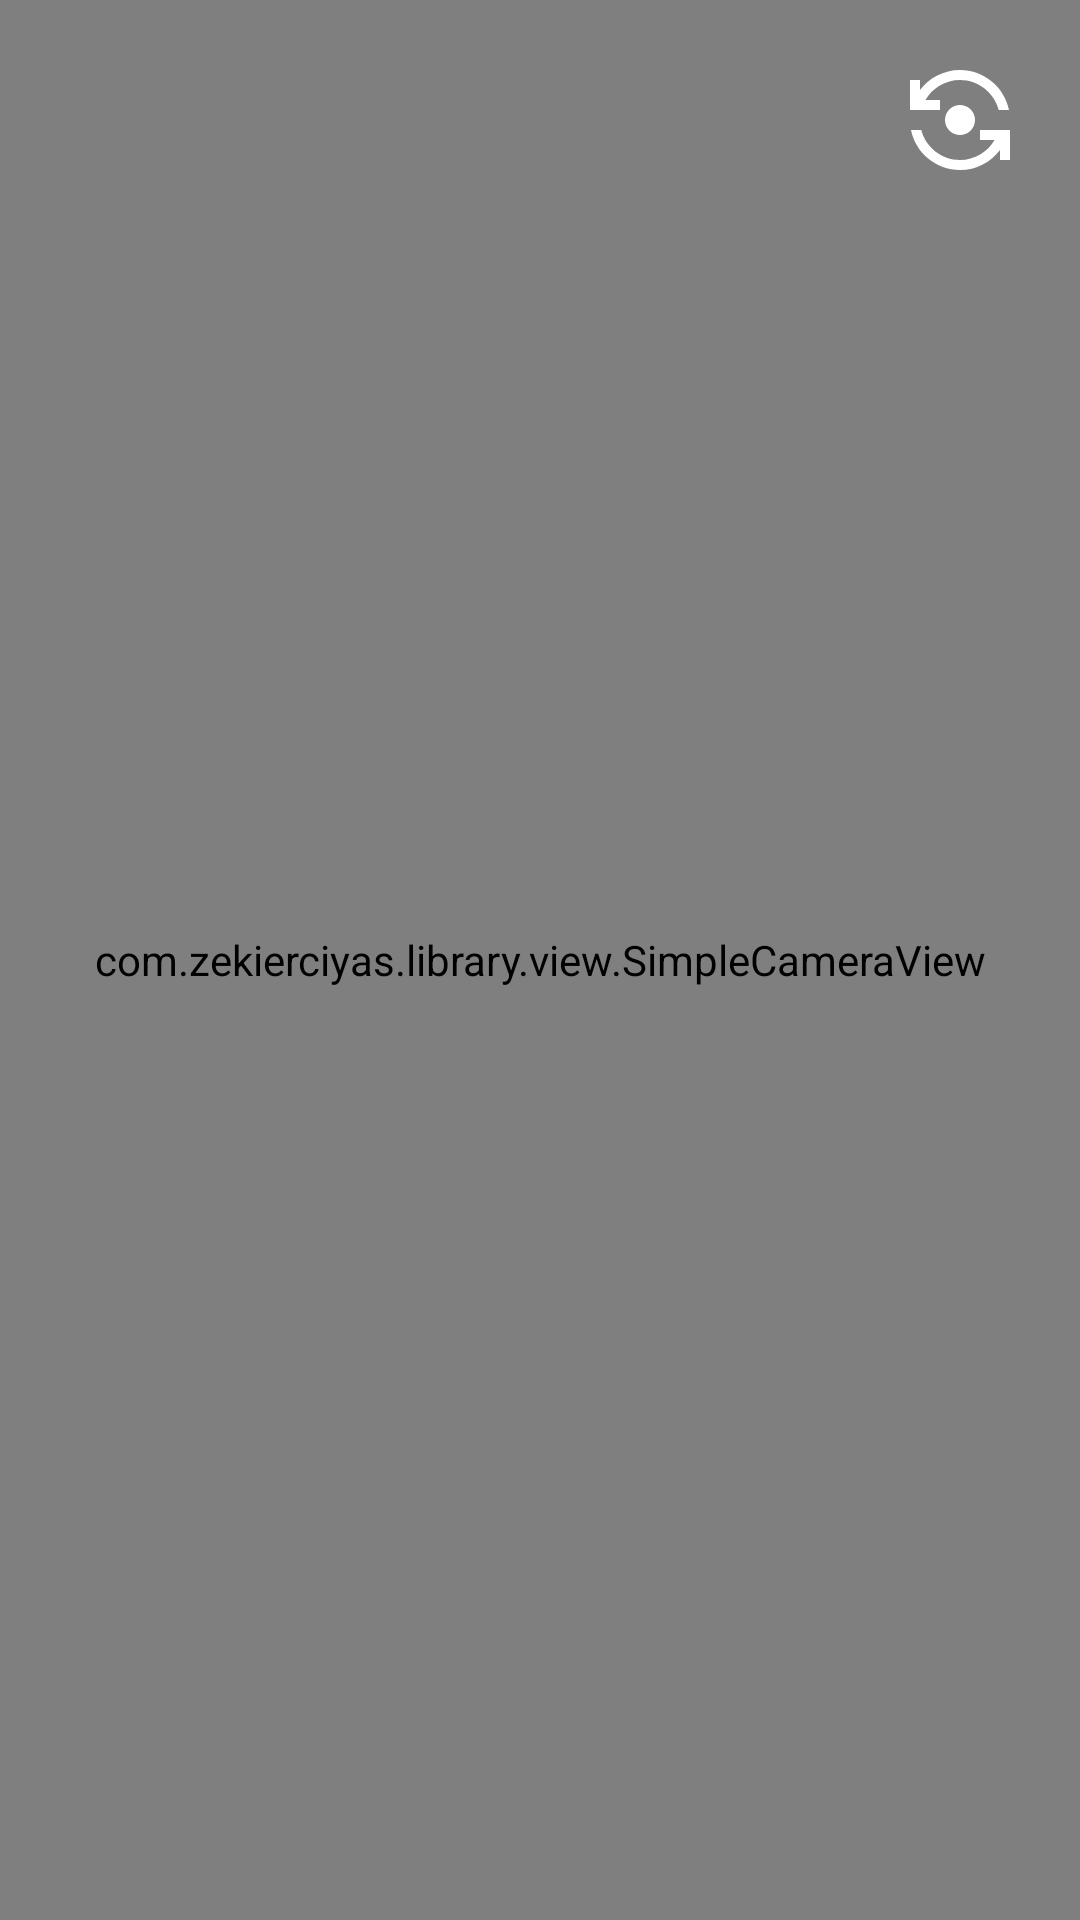

Icon bounding boxes for this 1080×1920 phone screenshot, format (left=x1, top=y1, right=x2, bottom=y2):
flip camera: (left=910, top=70, right=1010, bottom=170)
